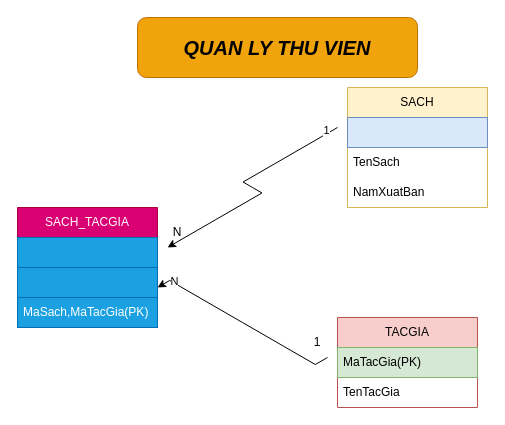
This 505x425 diagram has some shape labels left out. The shapes that lost their labels are listed below. From the top down, each one's centre as x and y in pixels, then its label:
point 417,132: MaSach(PK)
point 87,252: MaSach(FK)
point 87,282: MaTacGia(FK)
